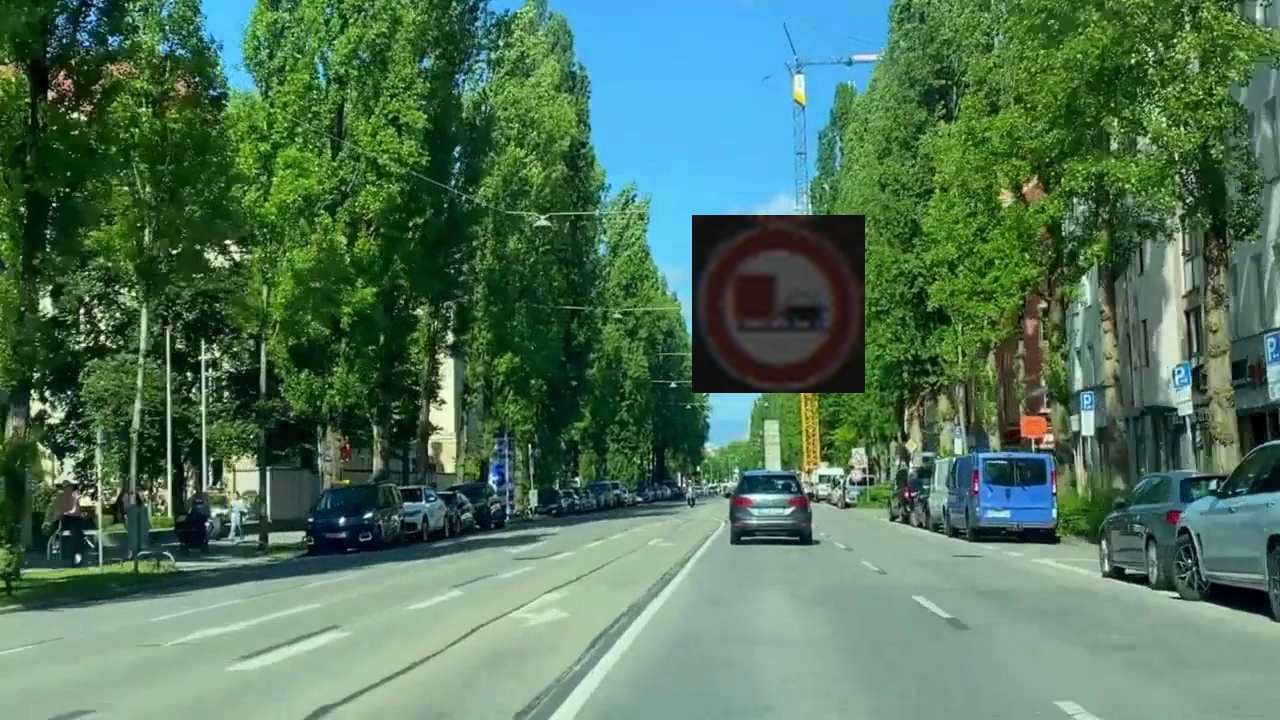No pass >3.5t: (692, 215, 865, 393)
